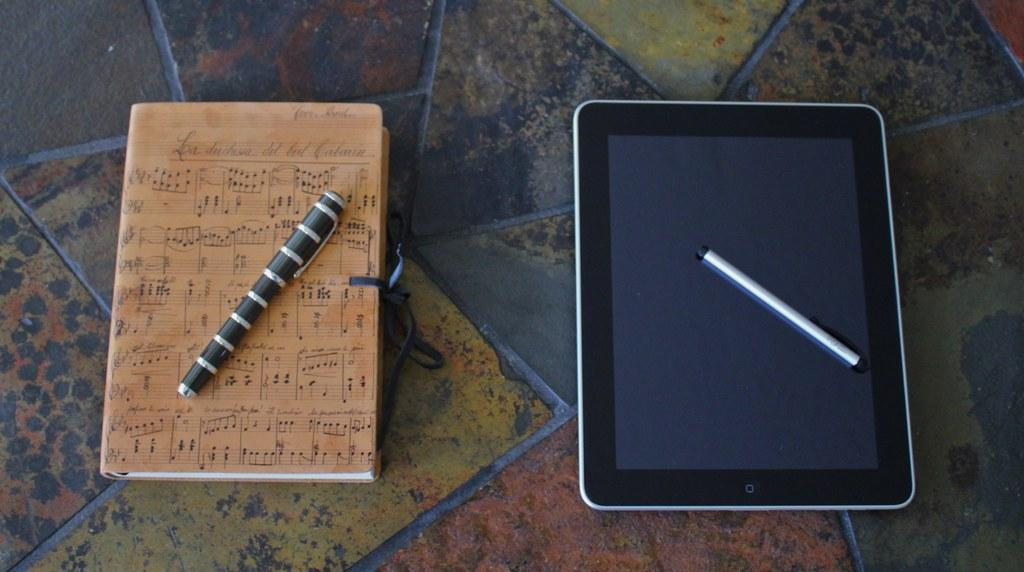Laptop: (572, 99, 916, 512)
